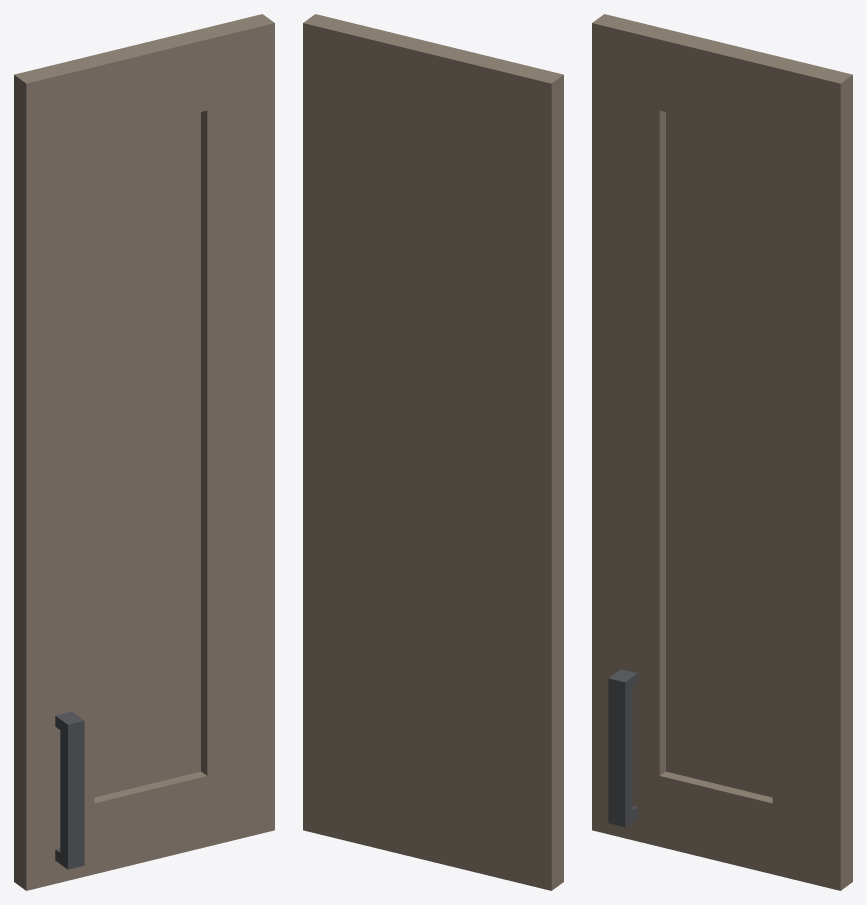
File: Door2_C5_13.fbx
The picture shows the model from 3 angles, left to right: view 1: azimuth 30°, elevation 25°; view 2: azimuth 150°, elevation 25°; view 3: azimuth 330°, elevation 25°; orthographic projection.
Parts seen in each view (by area): view 1: Door2_C5_13; view 2: Door2_C5_13; view 3: Door2_C5_13.
Part boxes in pixels (left/top/right/bottom): Door2_C5_13: left=14, top=14, right=274, bottom=890; Door2_C5_13: left=303, top=14, right=563, bottom=890; Door2_C5_13: left=592, top=14, right=852, bottom=890.
Size of the model in its own units: 29 by 90 by 5.03.
